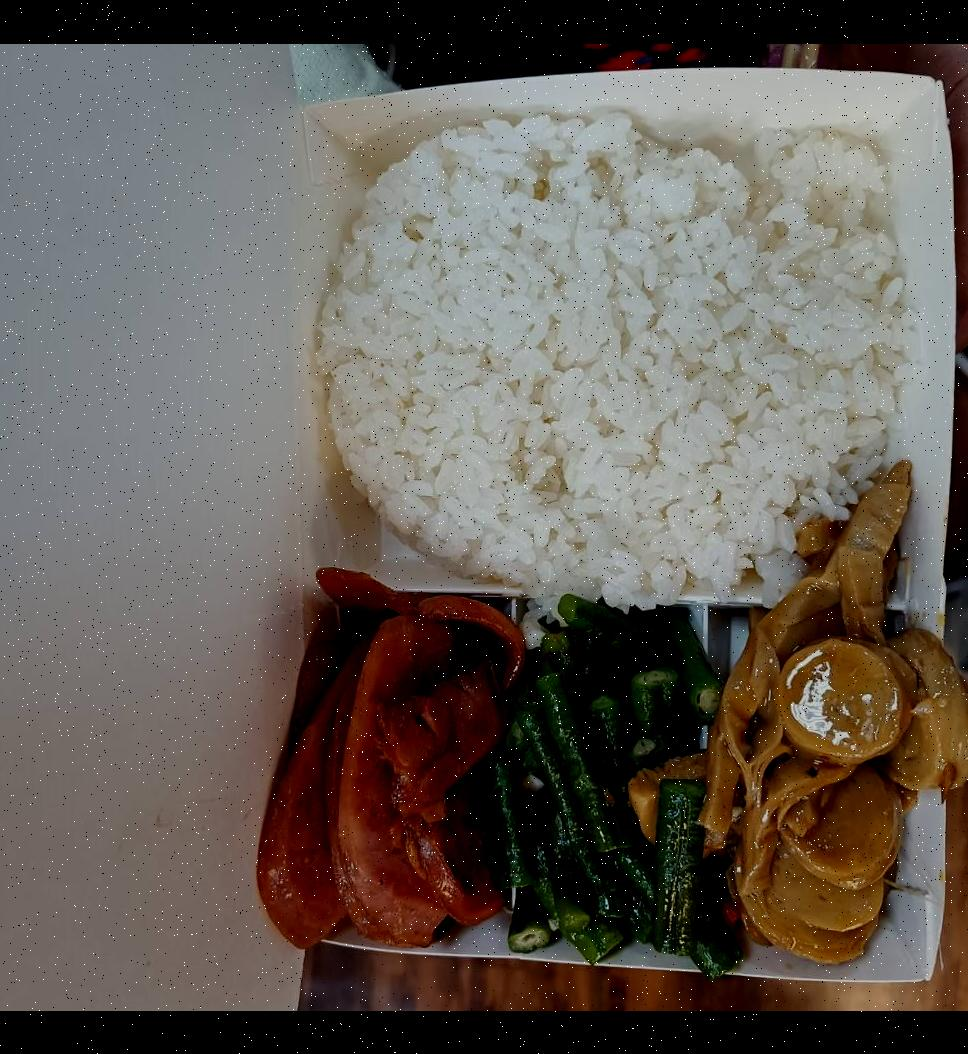box: (250, 73, 968, 989)
sausage: (242, 584, 516, 954)
side dish: (725, 591, 932, 963), (510, 603, 722, 960)
white rice: (342, 131, 881, 593)
